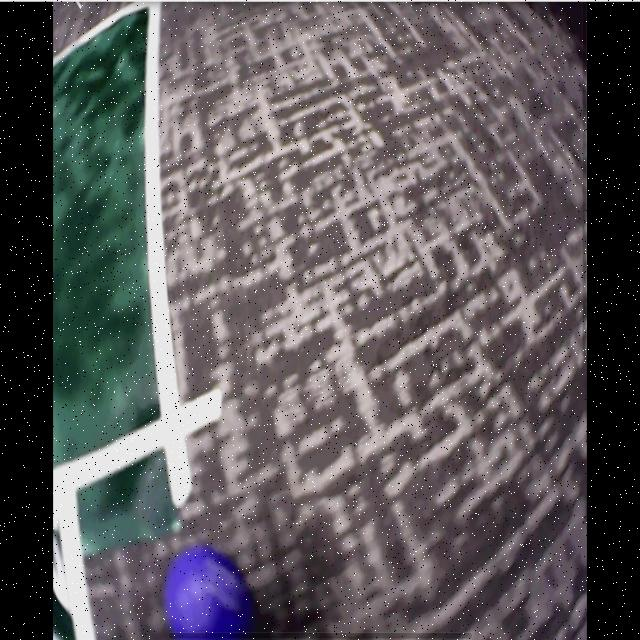ball: (167, 547, 249, 640)
